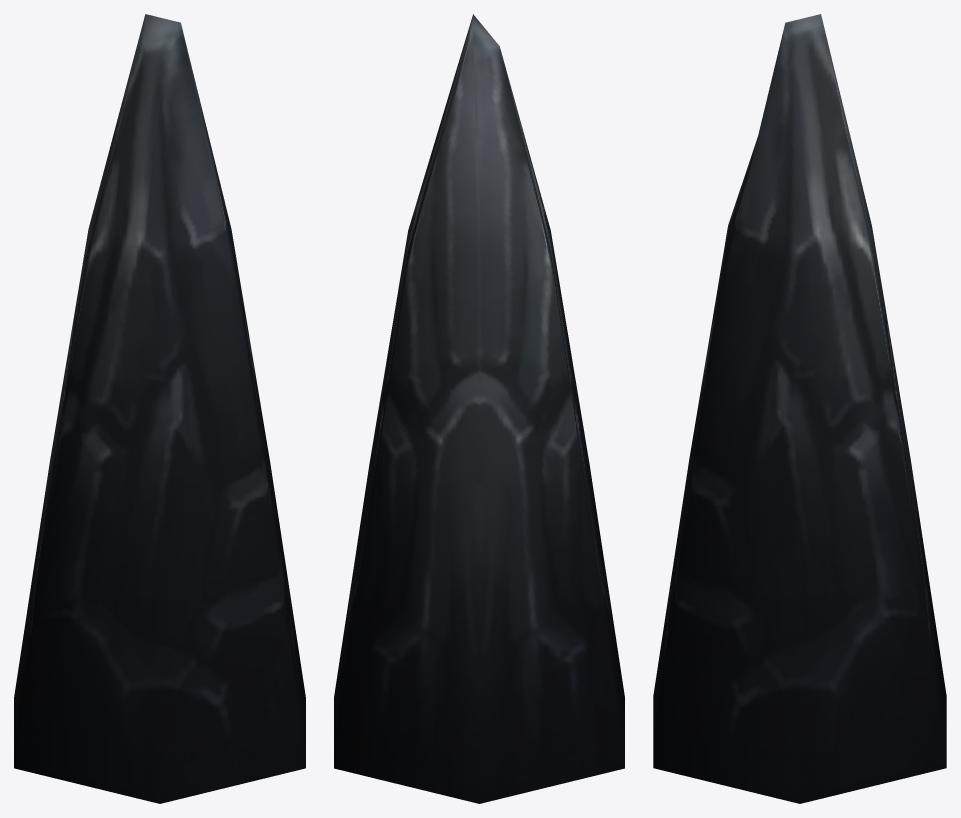
Rendered from Mine_shitou04.FBX.
3 renders of one model, left to right at view 1: azimuth 30°, elevation 25°; view 2: azimuth 150°, elevation 25°; view 3: azimuth 270°, elevation 25°, orthographic.
Parts seen in each view (by area): view 1: jianshi02; view 2: jianshi02; view 3: jianshi02.
Part boxes in pixels (x1,y1,x2,y2): jianshi02: (14,14,305,803); jianshi02: (334,14,624,803); jianshi02: (653,14,946,803).
Size of the model in its own units: 127 by 297 by 110.
